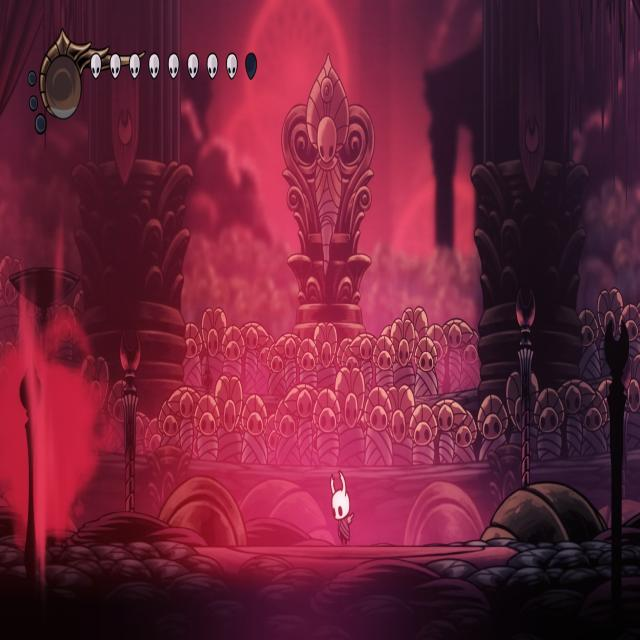Player: (331, 466, 357, 546)
